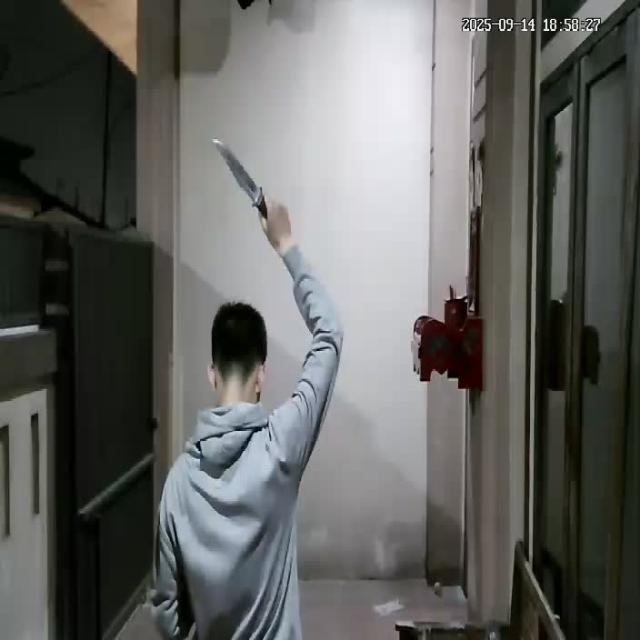senjata_tajam: (211, 136, 266, 214)
